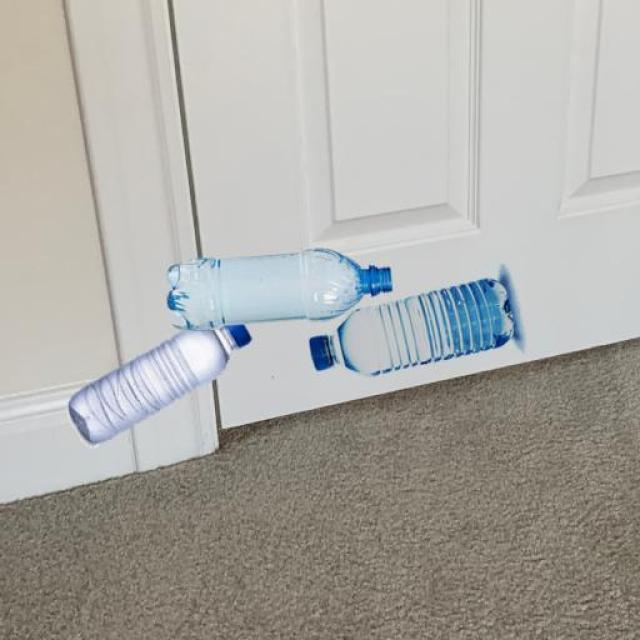bottle: (309, 270, 534, 404), (65, 313, 253, 457), (158, 247, 404, 330)
